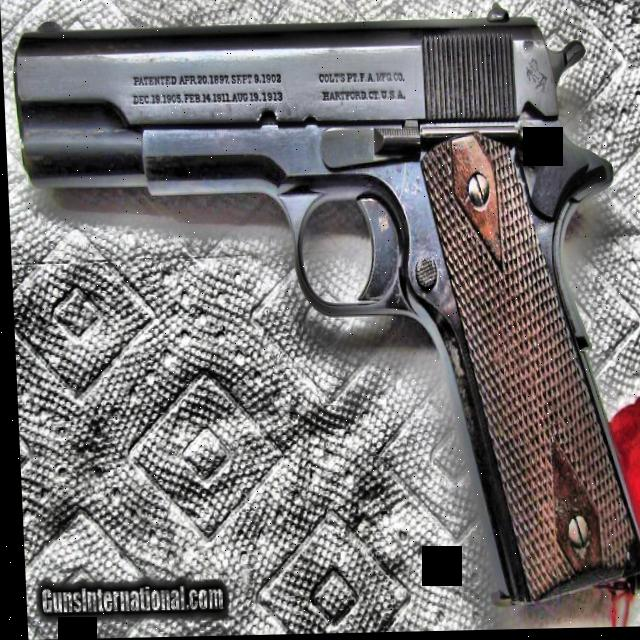Colt m1911: (10, 2, 640, 631)
